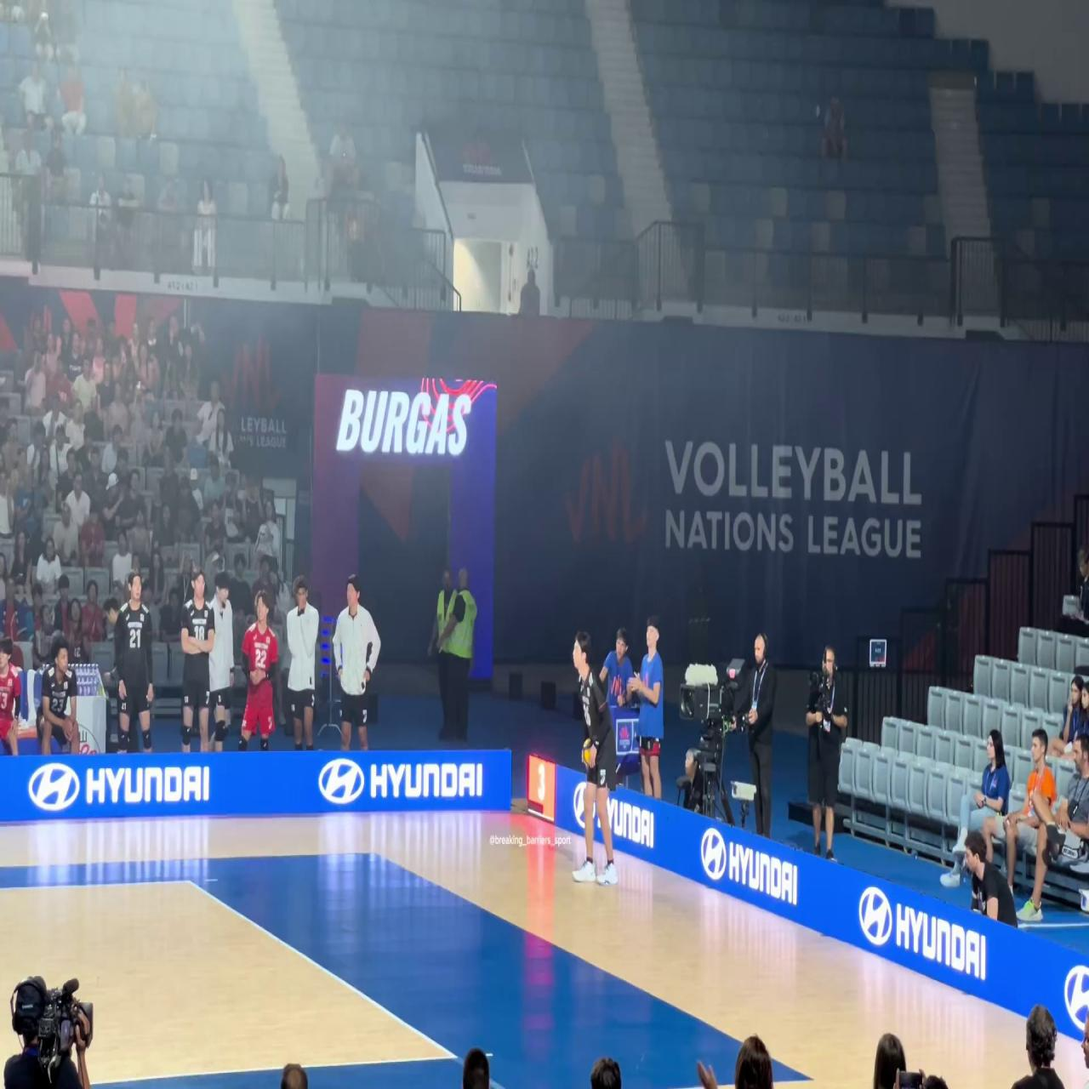ball: (582, 739, 594, 768)
